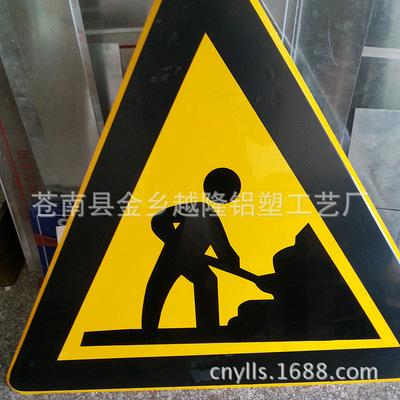sign: (42, 89, 387, 394)
